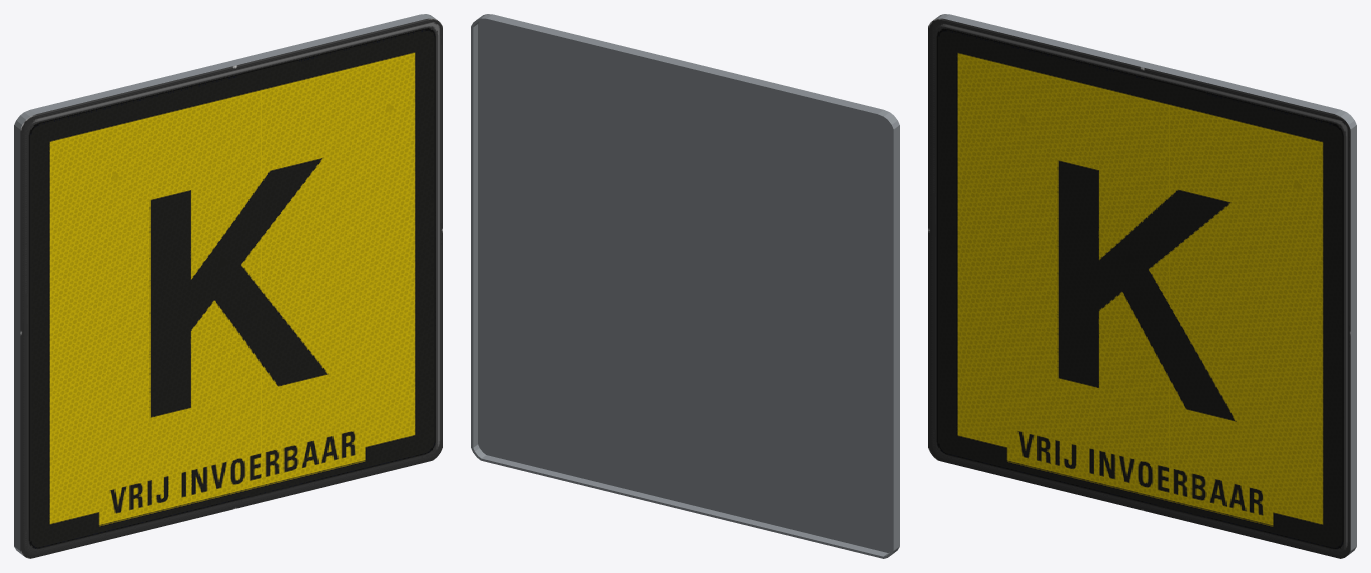
3 renders of one model, left to right at view 1: azimuth 30°, elevation 25°; view 2: azimuth 150°, elevation 25°; view 3: azimuth 330°, elevation 25°, orthographic.
Visible parts, largest first — view 1: cat_ee424b3fa8635adf; view 2: cat_ee424b3fa8635adf; view 3: cat_ee424b3fa8635adf.
Part boxes in pixels (bbox=[...]): cat_ee424b3fa8635adf: bbox=[14, 14, 442, 558]; cat_ee424b3fa8635adf: bbox=[471, 14, 899, 558]; cat_ee424b3fa8635adf: bbox=[928, 14, 1356, 558].
Bounding box in the file's own units: 0.6 × 0.015 × 0.6014.
2 materials, 1 textured.
